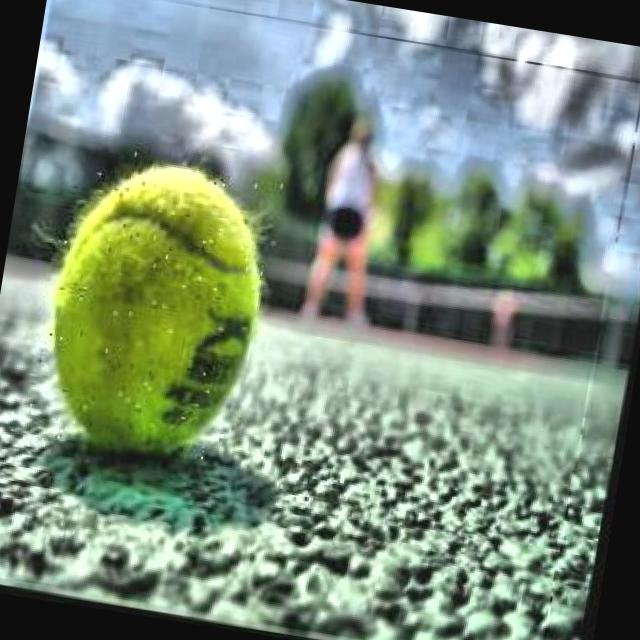Tennis Ball: (24, 141, 286, 474)
